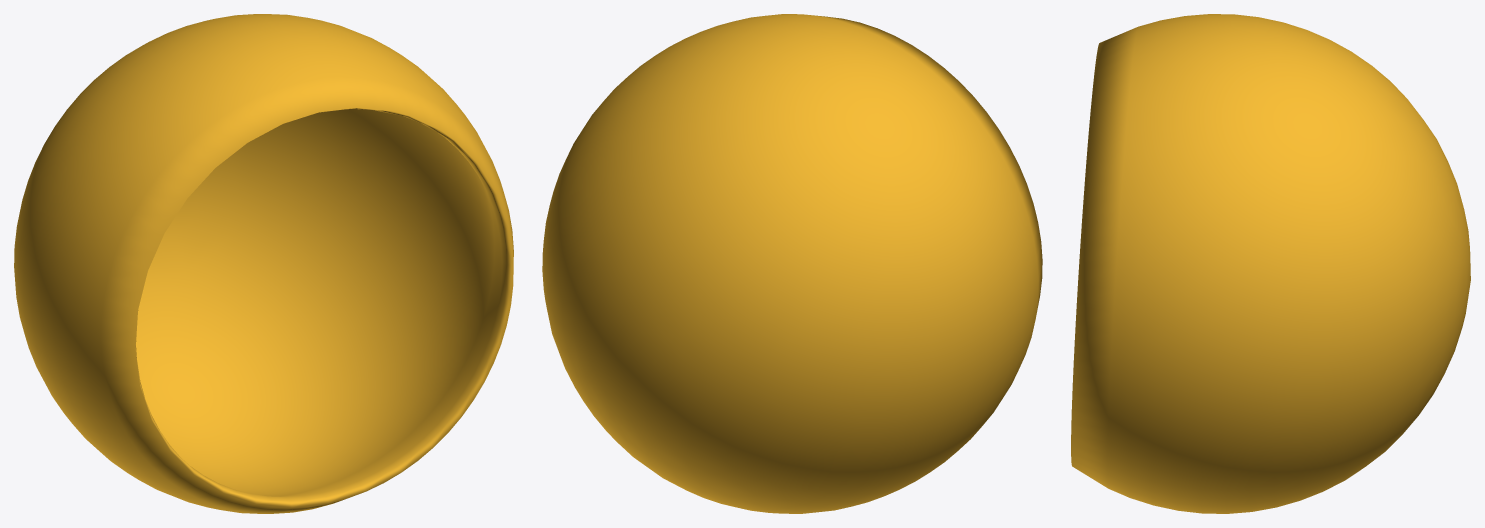
File: nervoso-retina-r.glb
The picture shows the model from 3 angles, left to right: view 1: azimuth 30°, elevation 25°; view 2: azimuth 150°, elevation 25°; view 3: azimuth 270°, elevation 25°; orthographic projection.
Visible parts, largest first — view 1: Retina.r; view 2: Retina.r; view 3: Retina.r.
Boxes of the visible parts, x1,y1,x2,y2 form: Retina.r: [14, 14, 513, 513]; Retina.r: [542, 14, 1042, 513]; Retina.r: [1071, 14, 1470, 513].
Bounding box in the file's own units: 0.0239 × 0.0239 × 0.0191.
